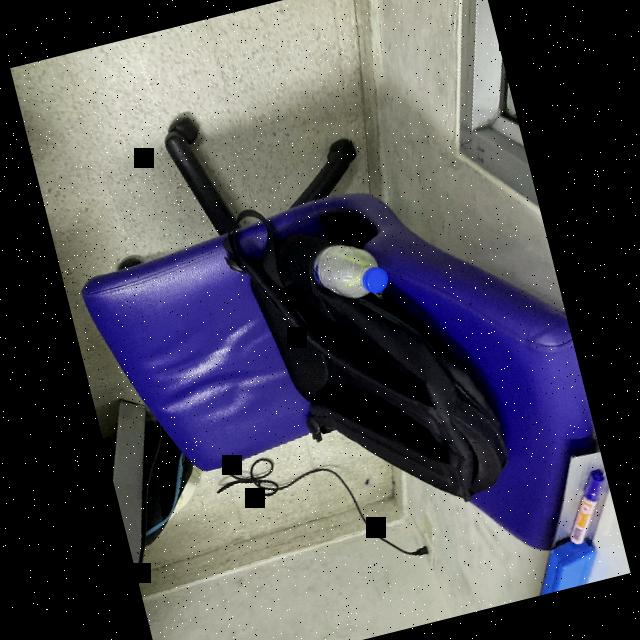plastic_bottle: (308, 229, 394, 311)
plastic_bottle_cap: (360, 264, 392, 296)
straw: (334, 241, 378, 288)
